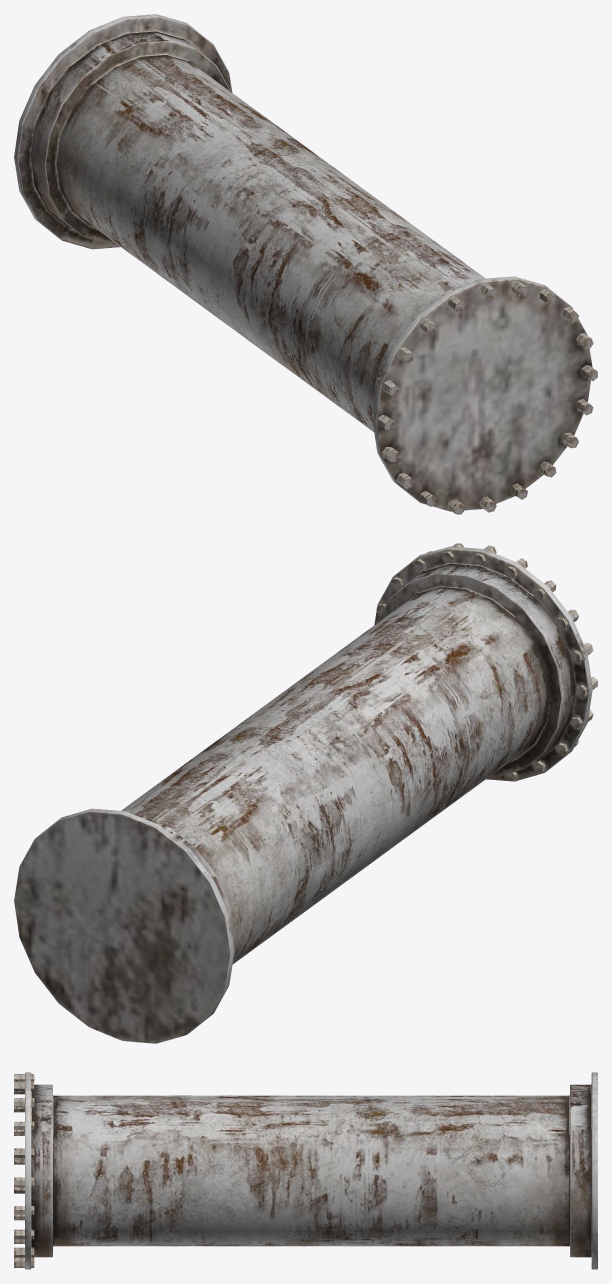
The model's file is SM_Pipe_Straight_Long.glb.
The picture shows the model from 3 angles, top to bottom: view 1: azimuth 30°, elevation 25°; view 2: azimuth 150°, elevation 25°; view 3: azimuth 270°, elevation 25°; orthographic projection. The views are drawn at different scales.
Visible parts, largest first — view 1: SM_Pipe_Straight_Long; view 2: SM_Pipe_Straight_Long; view 3: SM_Pipe_Straight_Long.
Boxes of the visible parts, x1,y1,x2,y2 form: SM_Pipe_Straight_Long: [14, 14, 597, 514]; SM_Pipe_Straight_Long: [14, 543, 597, 1043]; SM_Pipe_Straight_Long: [14, 1072, 597, 1269].
Bounding box in the file's own units: 0.348 × 0.348 × 1.02.
Materials: 1 (1 with a texture image).
